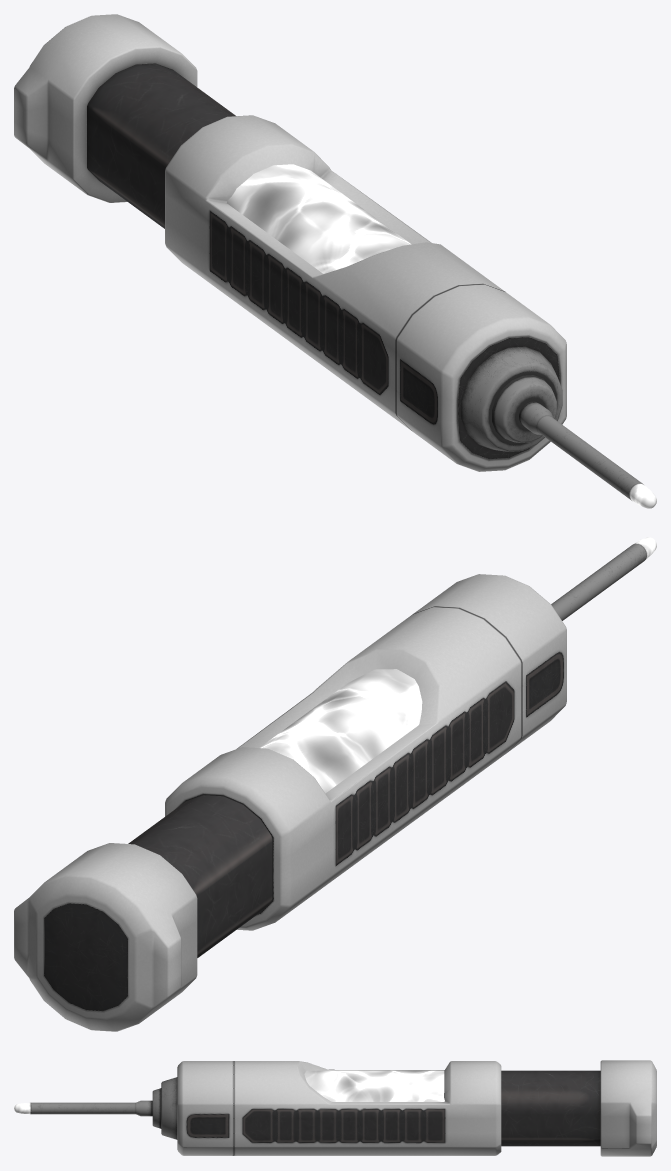
File: SciFiMedInjector01_1.FBX
The picture shows the model from 3 angles, top to bottom: view 1: azimuth 30°, elevation 25°; view 2: azimuth 150°, elevation 25°; view 3: azimuth 270°, elevation 25°; orthographic projection. The views are drawn at different scales.
Parts seen in each view (by area): view 1: SciFiMedInjector01_1; view 2: SciFiMedInjector01_1; view 3: SciFiMedInjector01_1.
Part boxes in pixels (x1=…): SciFiMedInjector01_1: x1=14, y1=14, x2=656, y2=508; SciFiMedInjector01_1: x1=14, y1=537, x2=656, y2=1031; SciFiMedInjector01_1: x1=14, y1=1060, x2=656, y2=1156.
Size of what is drawn, in the model's own units: 0.0444 by 0.0422 by 0.2808.
